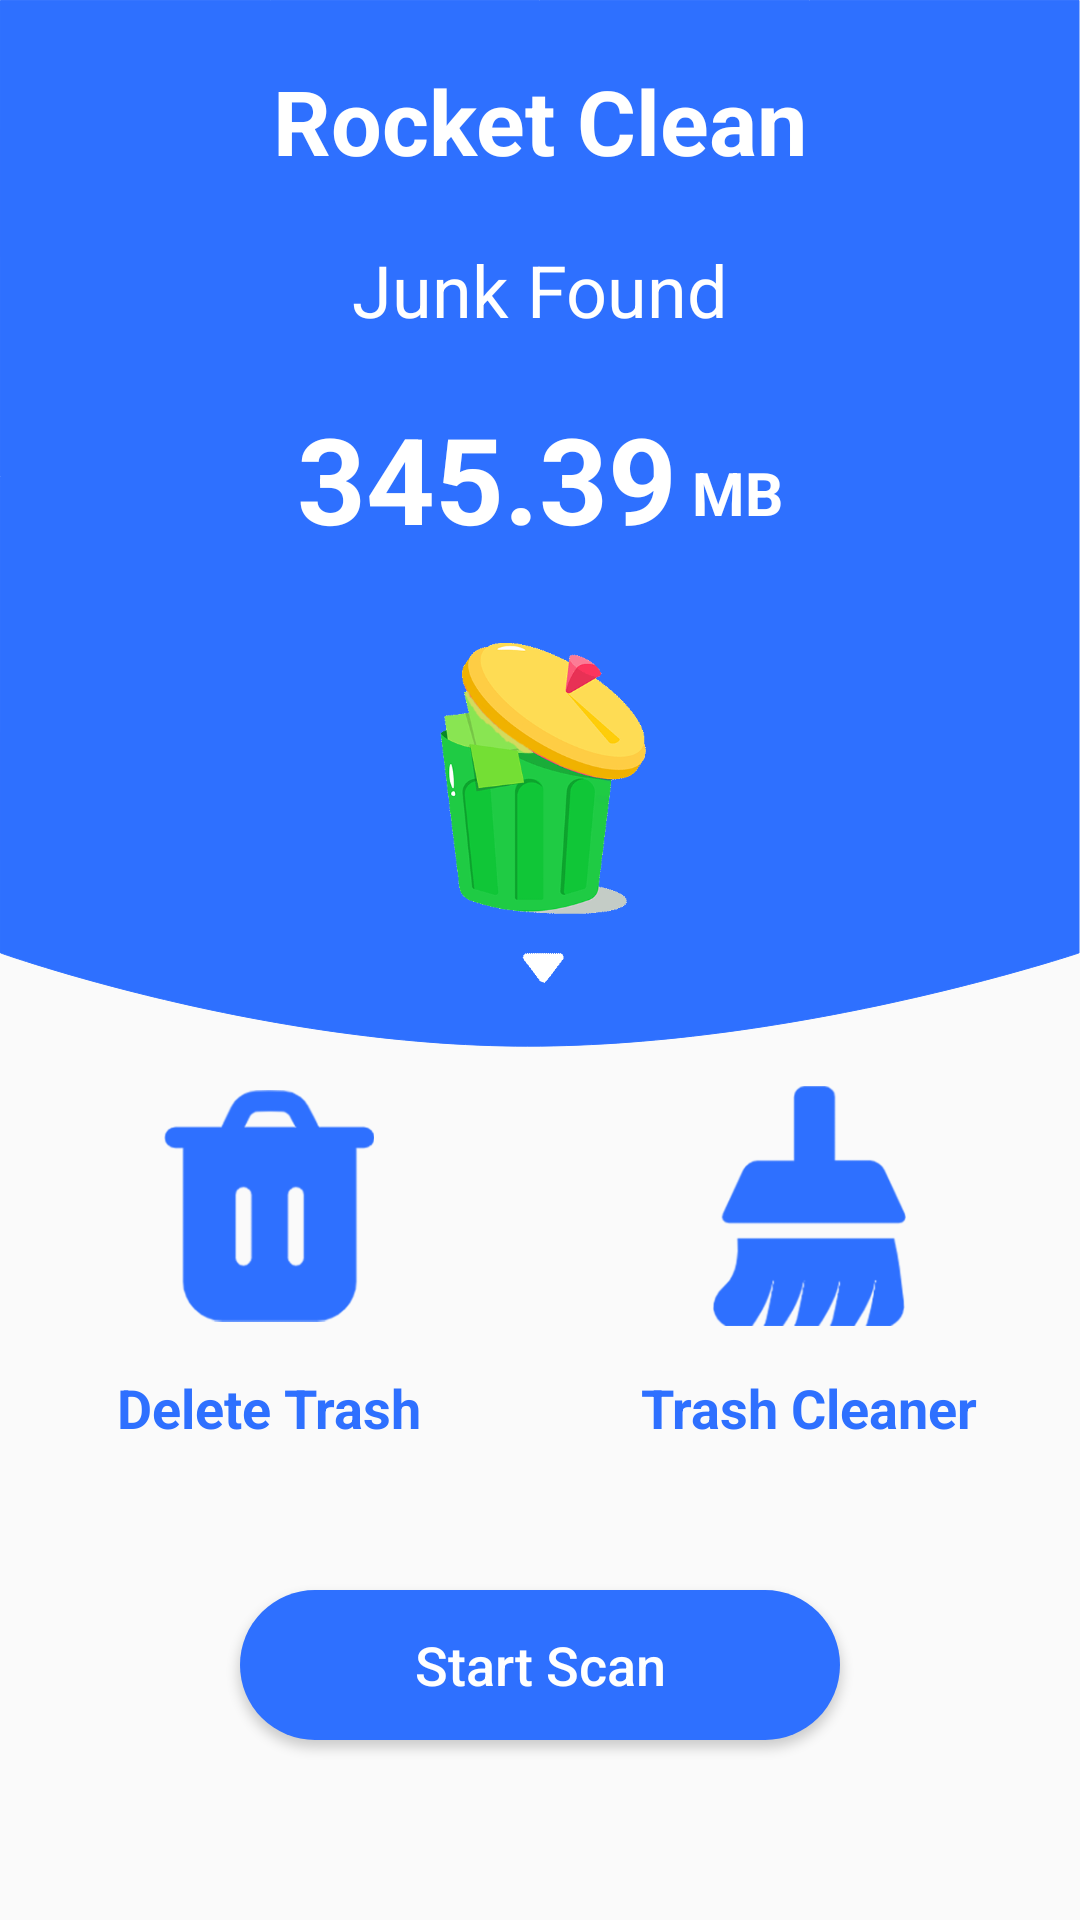

Icon click points for this 1080 x 1920 phone screenshot, format [x,y]:
clear: [809,1206]
